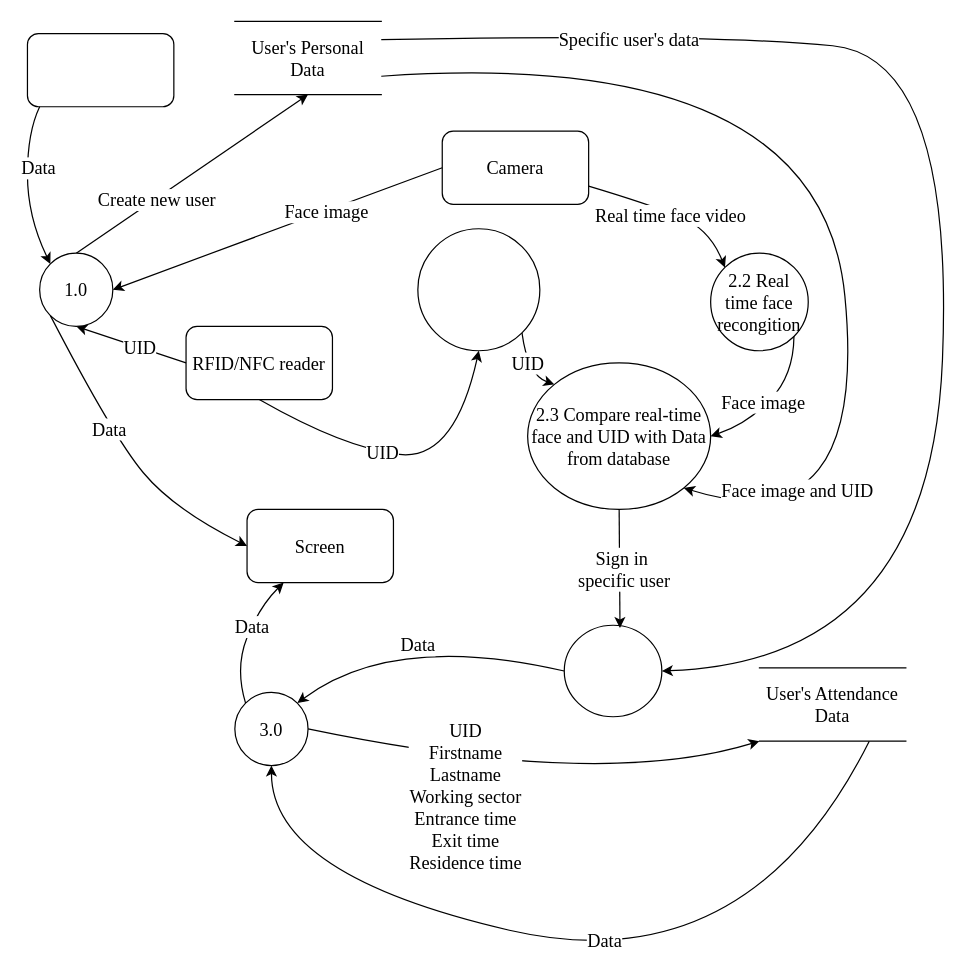
This 965x972 diagram has some shape labels left out. Here are the shapes that lost their labels. From the top down, the box of each, then its label:
(26, 32, 174, 107): Employee
(417, 228, 540, 351): 2.1 Read UID out of RFID tag
(563, 624, 662, 717): 2.4 Sign in
